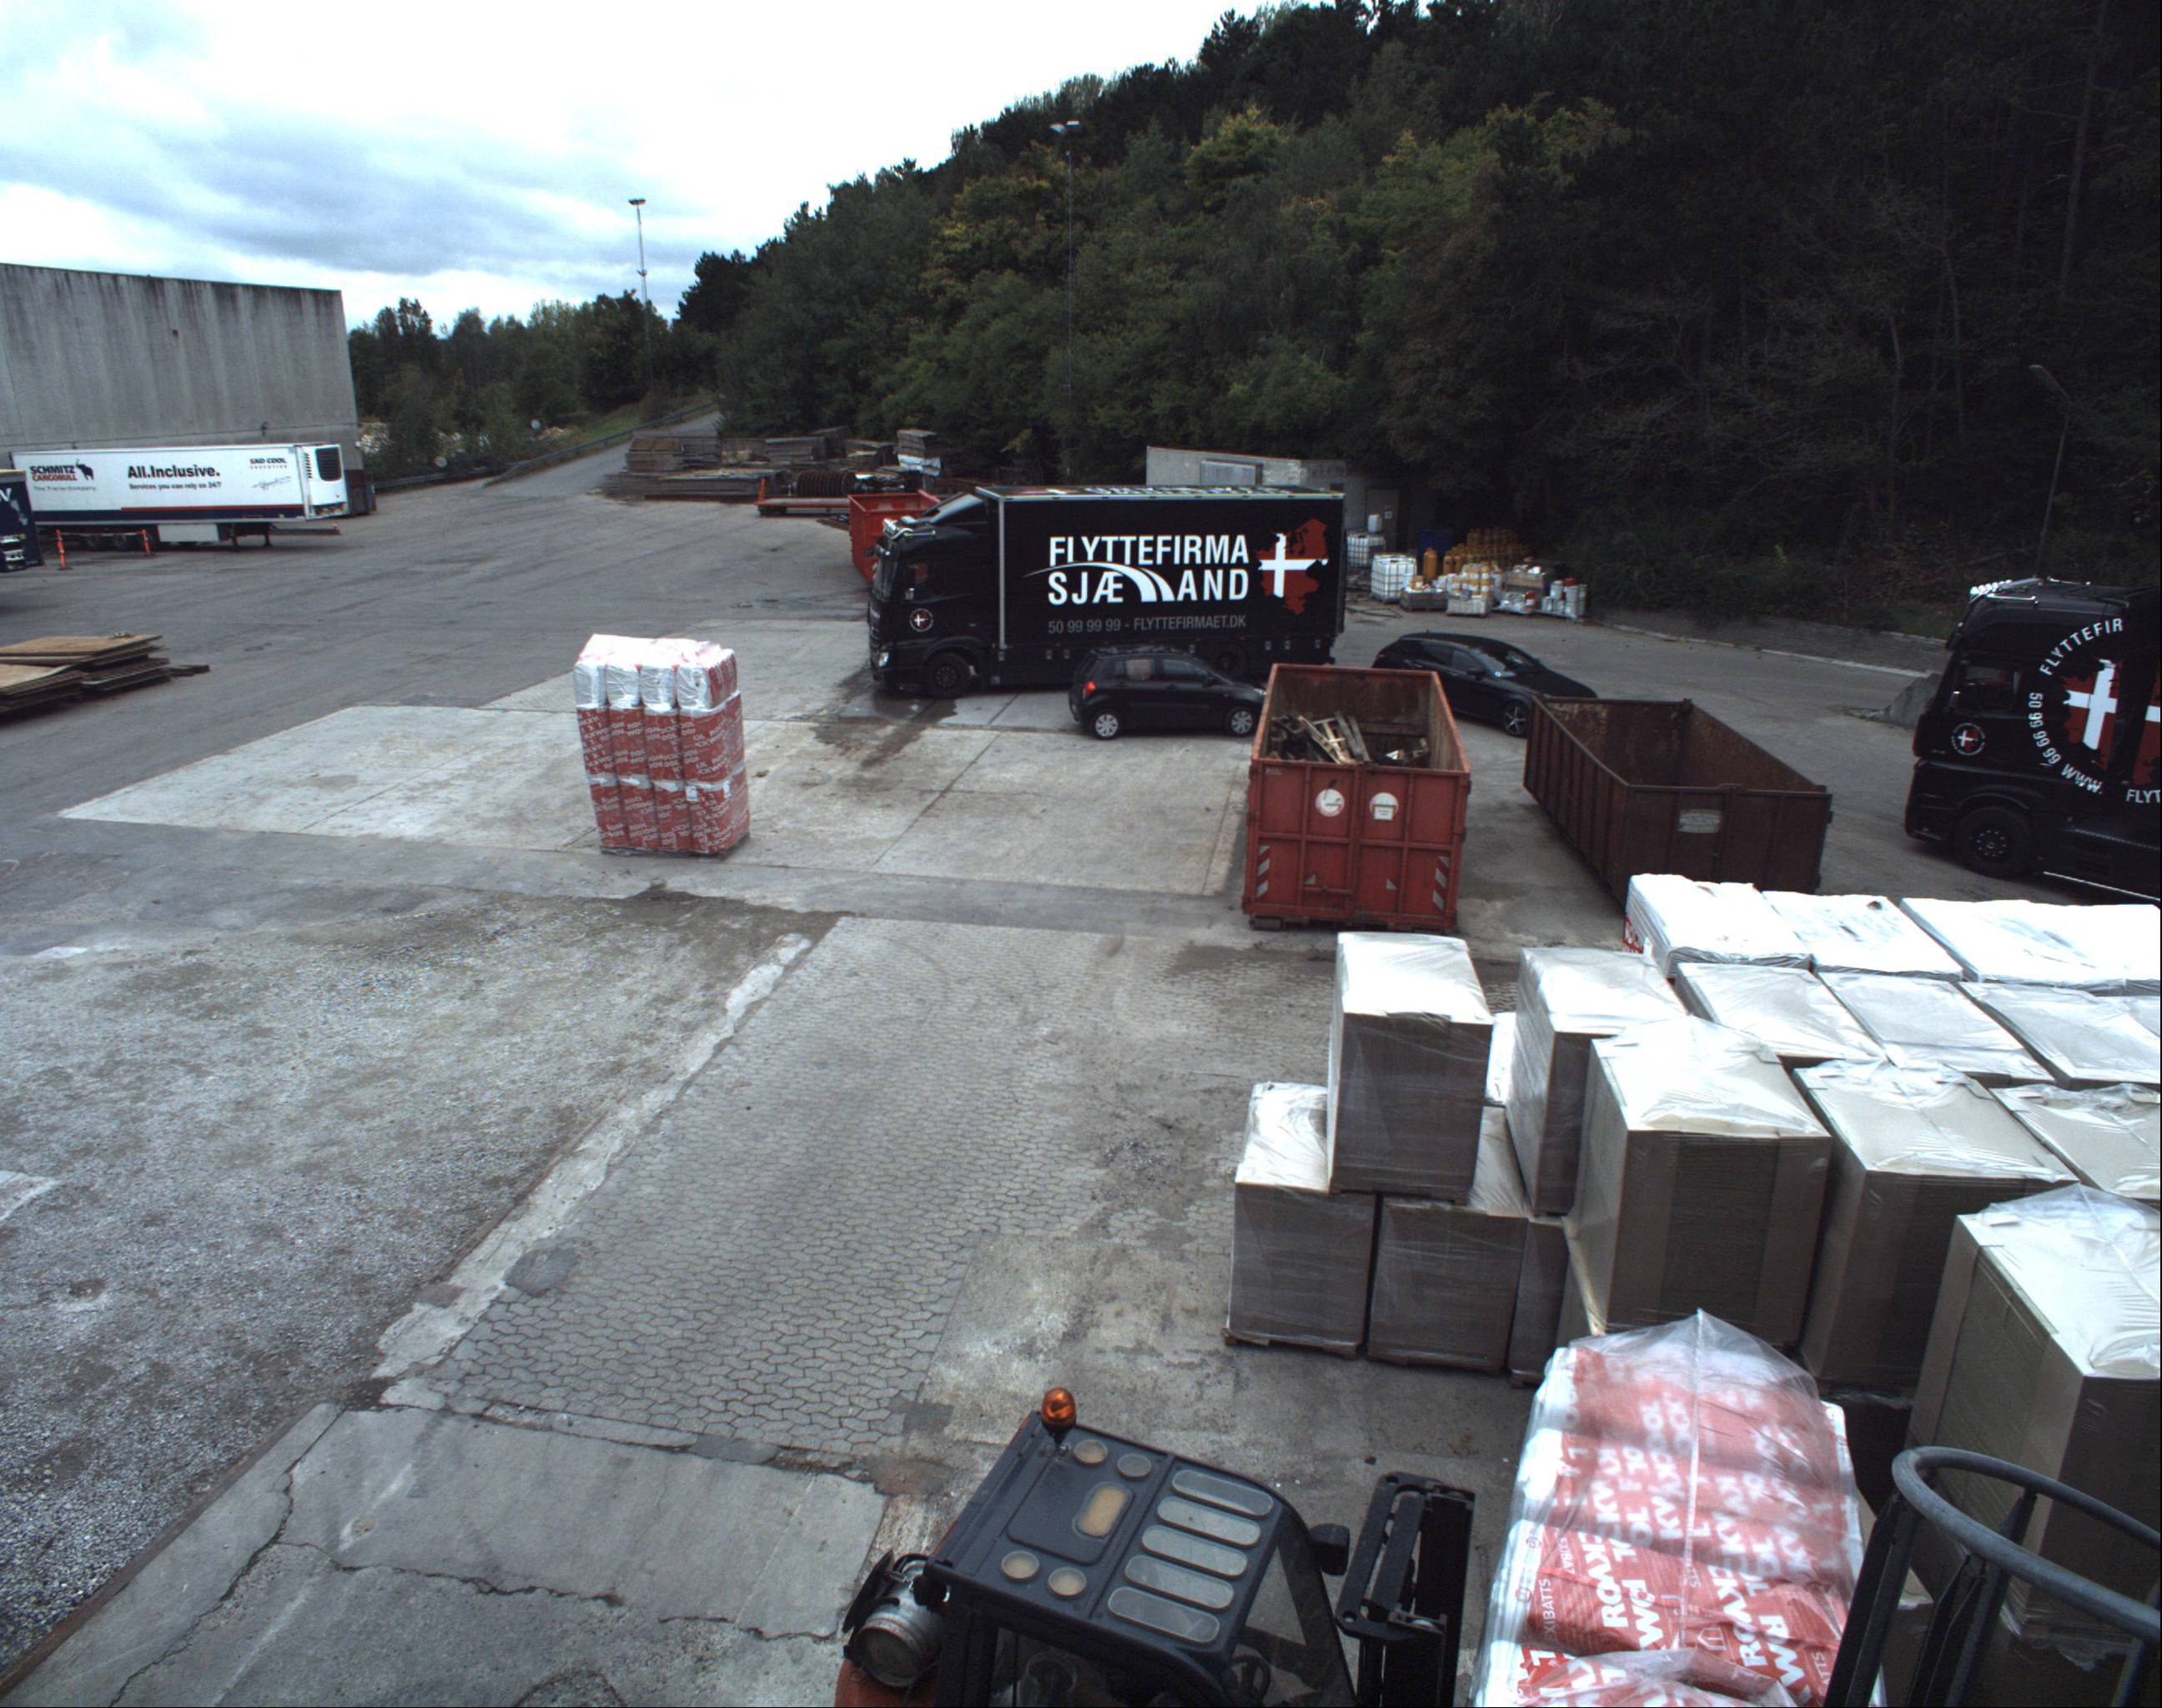rockwool_batts: (1453, 1359, 1883, 1706), (572, 621, 753, 851)
